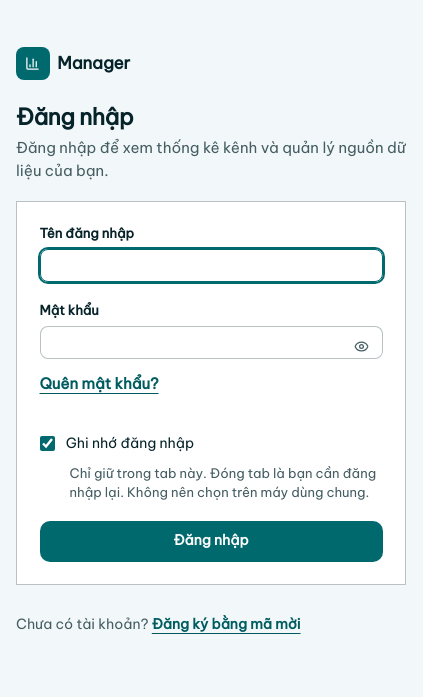
Test case: LoginPage — lỗi nói rõ cách xử lý, không lộ tài khoản có tồn tại hay không › tài khoản bị khóa (403): nói cần liên hệ quản trị viên
Type "alice" into the field labelled "Tên đăng nhập".
click(211, 266); type("alice")  # box [40,249,382,282]
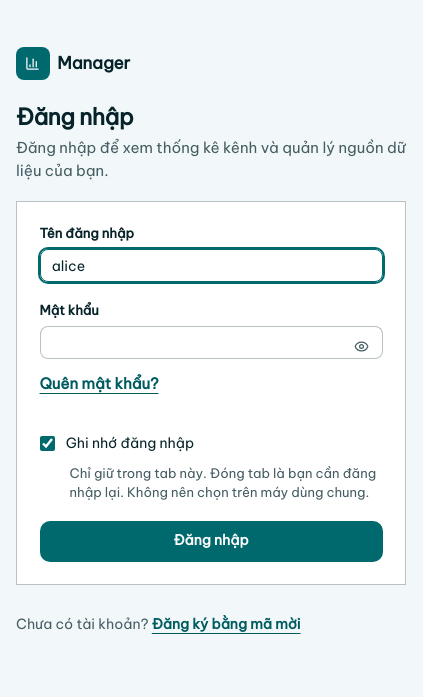
Type "wrong-password" into the password field labelled "Mật khẩu".
click(211, 342); type("wrong-password")  # box [40,326,382,359]
Then press Enter
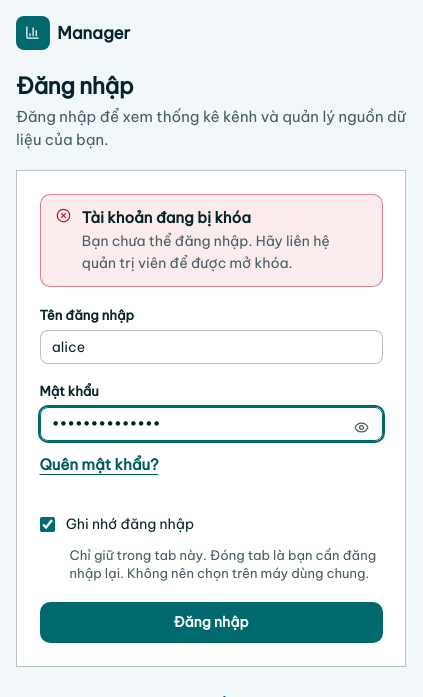
Expected: the message shows "Tài khoản đang bị khóa", [82,208,251,227]
